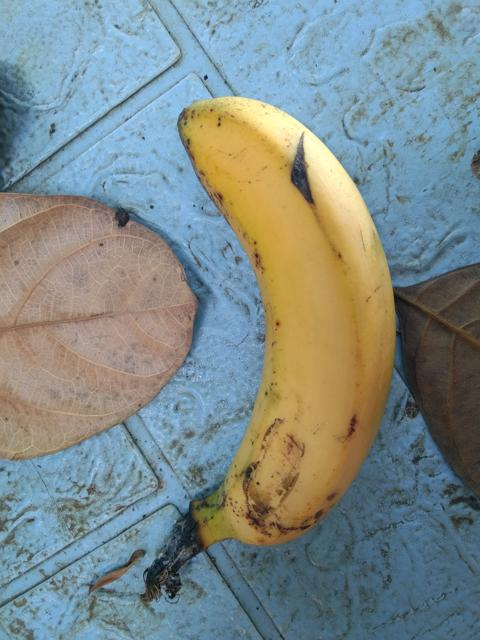ripe: (129, 56, 433, 615)
